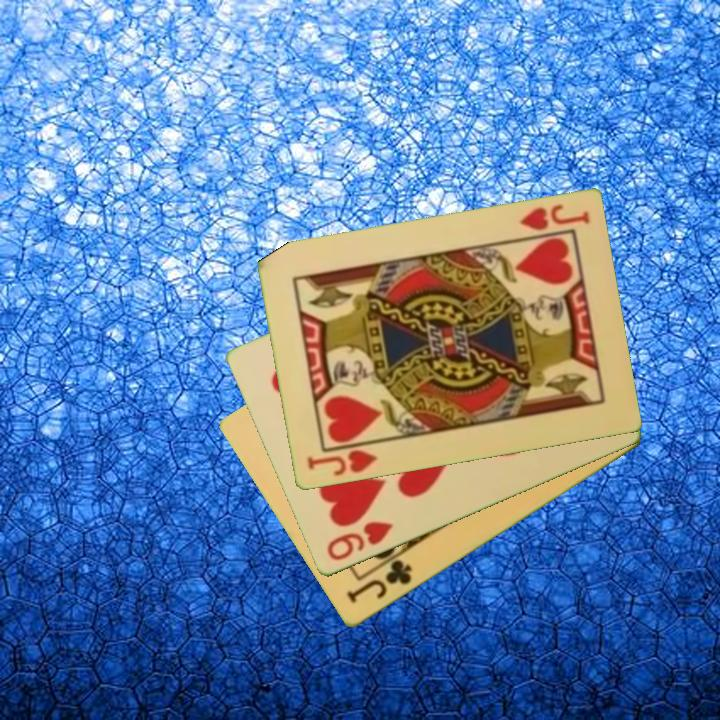9h: (323, 518, 396, 564)
Jc: (343, 556, 416, 607)
Jh: (303, 438, 383, 480), (515, 201, 592, 234)
